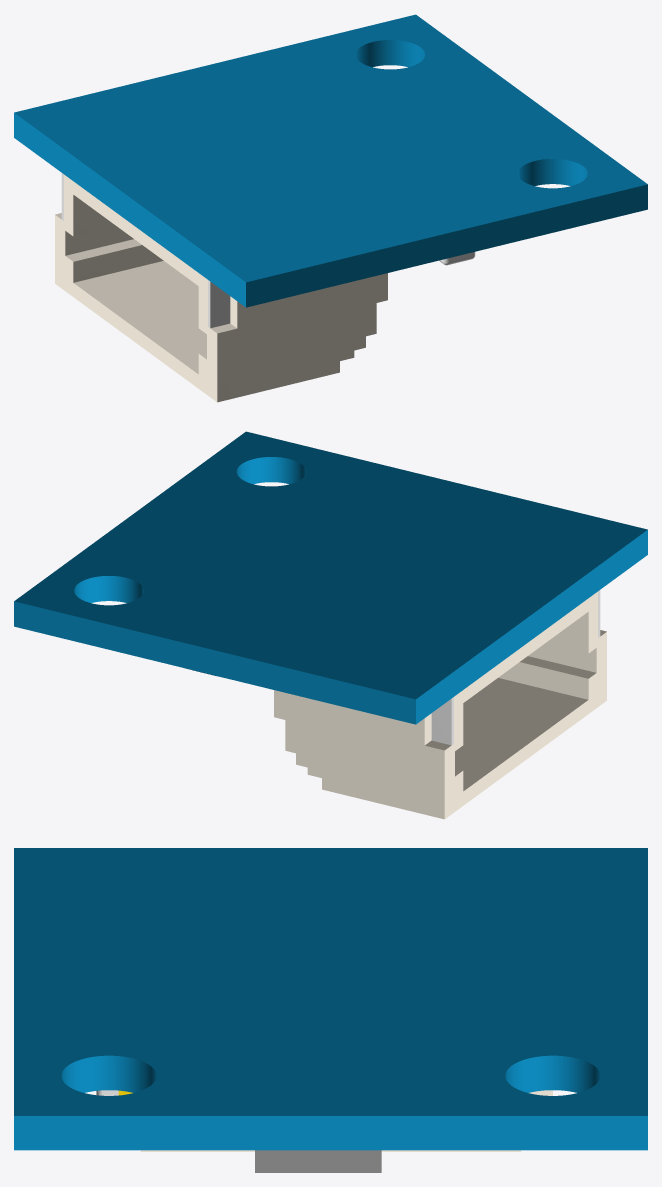
The model's file is Wireling3Axis.glb.
The picture shows the model from 3 angles, top to bottom: view 1: azimuth 30°, elevation 25°; view 2: azimuth 150°, elevation 25°; view 3: azimuth 270°, elevation 25°; orthographic projection. The views are drawn at different scales.
Parts seen in each view (by area): view 1: test.002; view 2: test.002; view 3: test.002.
Boxes of the visible parts, left/top/right/bottom form: test.002: left=14, top=14, right=647, bottom=402; test.002: left=14, top=431, right=647, bottom=819; test.002: left=14, top=848, right=647, bottom=1172.
Bounding box in the file's own units: 10 × 3.5 × 10.
